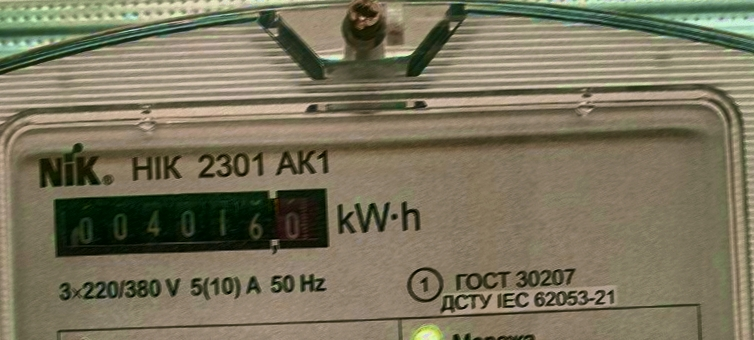0: (176, 203, 198, 239), (74, 211, 96, 244), (280, 206, 301, 239), (109, 207, 129, 241)
1: (214, 202, 230, 236)
4: (143, 203, 162, 238)
6: (244, 206, 264, 238)
screen: (46, 179, 336, 263)
